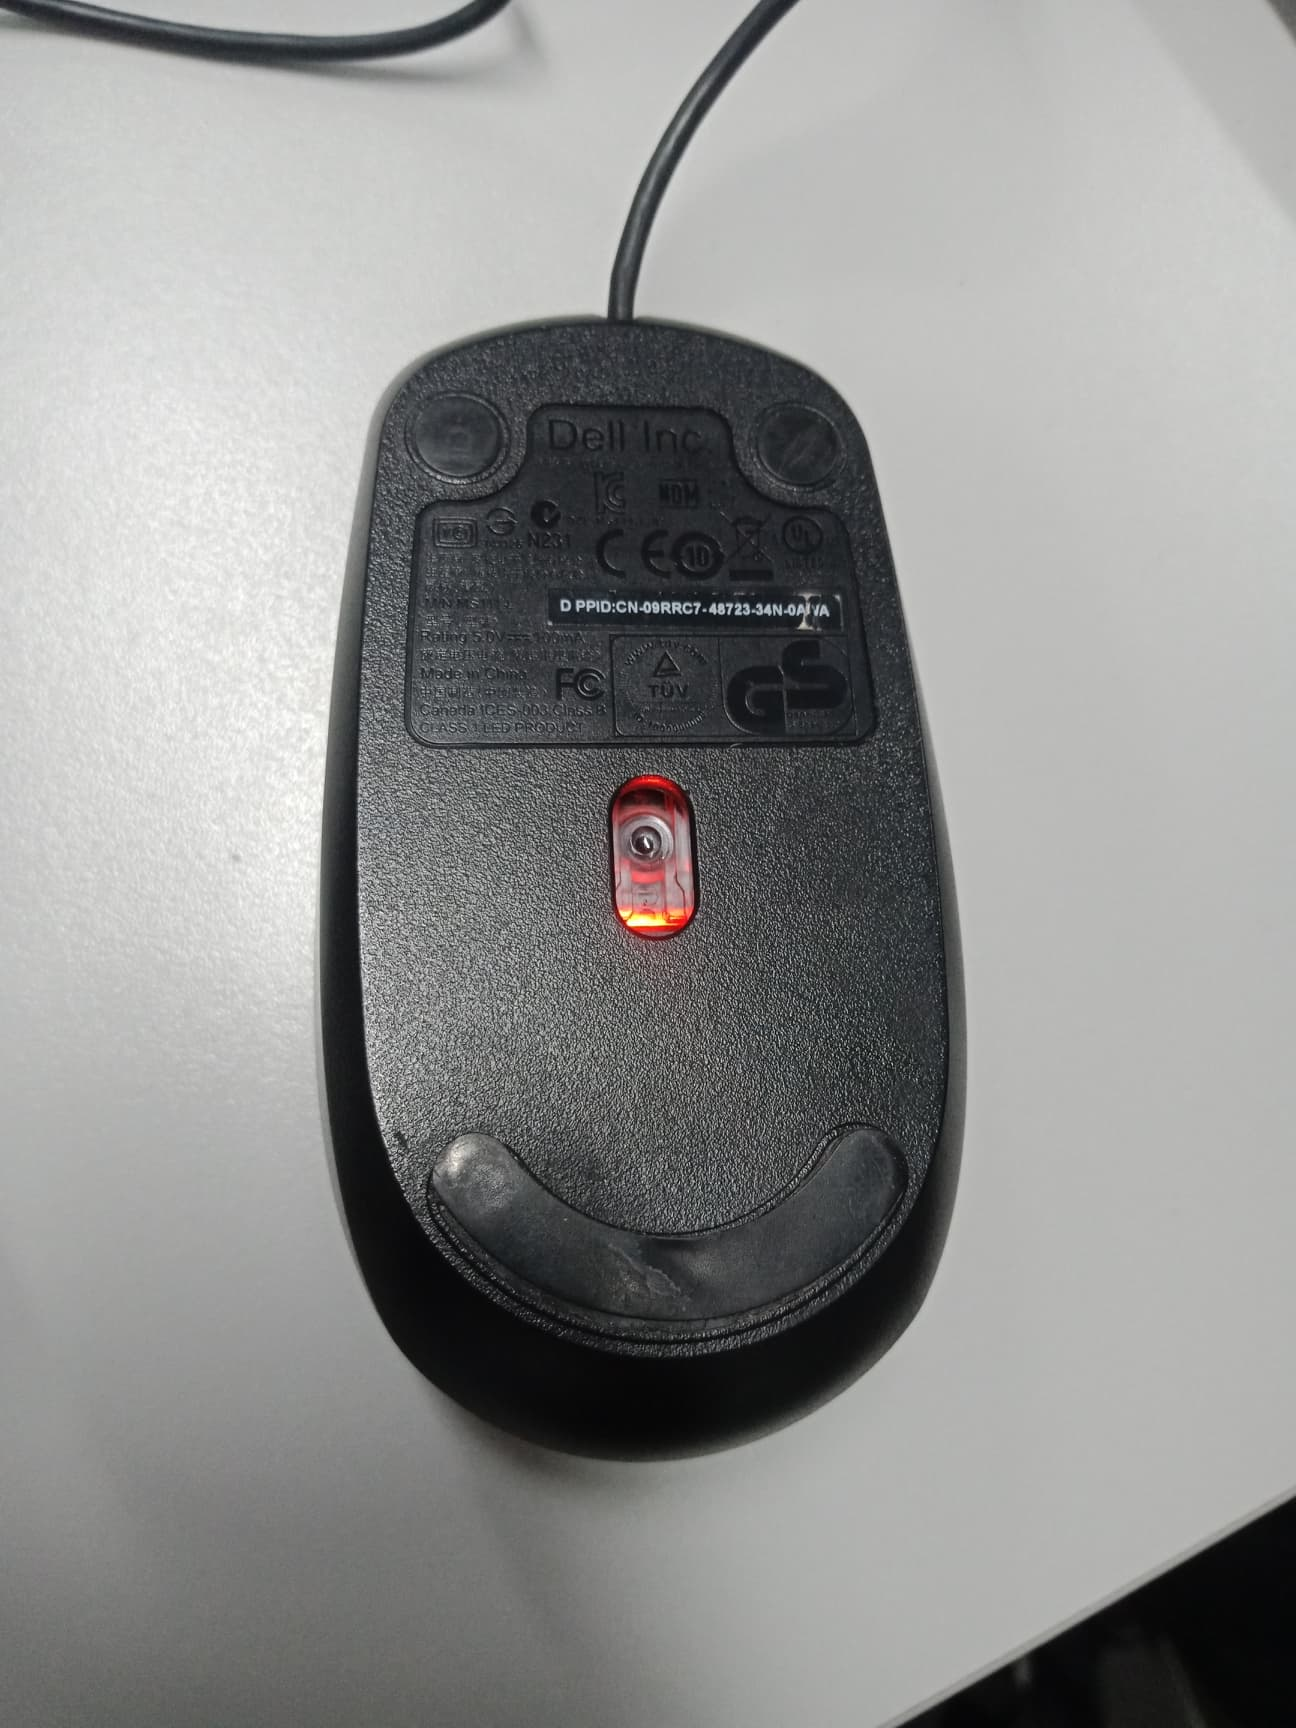mouse: (319, 314, 968, 1465)
